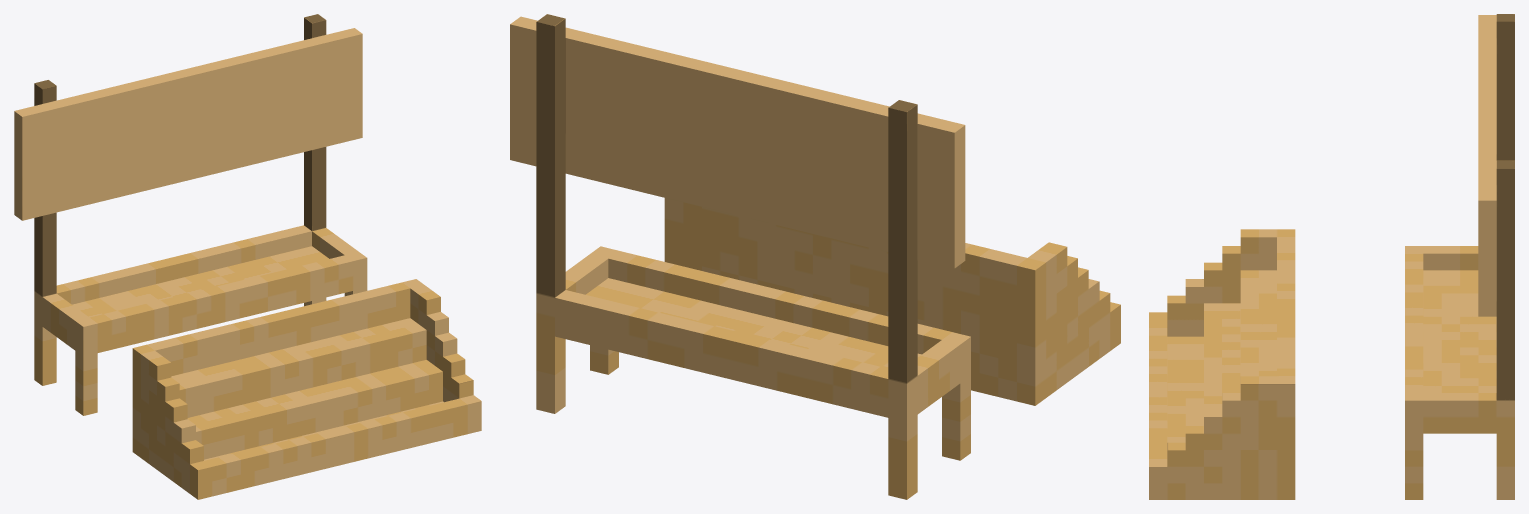
File: Shop_Simple.obj
3 renders of one model, left to right at view 1: azimuth 30°, elevation 25°; view 2: azimuth 150°, elevation 25°; view 3: azimuth 270°, elevation 25°, orthographic. The views are drawn at different scales.
Visible parts, largest first — view 1: Shop_Simple_Medieval_Assets-19.002; view 2: Shop_Simple_Medieval_Assets-19.002; view 3: Shop_Simple_Medieval_Assets-19.002.
Part boxes in pixels (x1,y1,x2,y2): Shop_Simple_Medieval_Assets-19.002: [14, 14, 481, 499]; Shop_Simple_Medieval_Assets-19.002: [510, 14, 1120, 499]; Shop_Simple_Medieval_Assets-19.002: [1149, 14, 1514, 499].
Bounding box in the file's own units: 2.4 × 2 × 2.
Materials: 1 (1 with a texture image).
